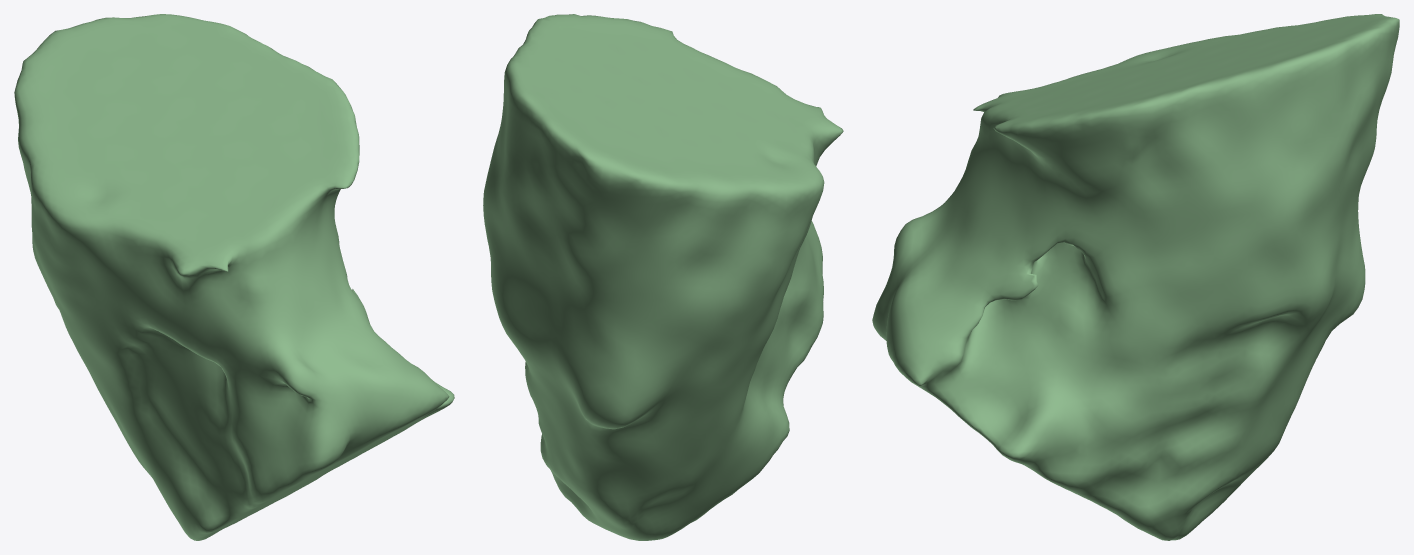
Rendered from carotid-artery.glb.
3 renders of one model, left to right at view 1: azimuth 30°, elevation 25°; view 2: azimuth 150°, elevation 25°; view 3: azimuth 270°, elevation 25°, orthographic. The views are drawn at different scales.
Parts seen in each view (by area): view 1: 12_Carotis Interna.ply; view 2: 12_Carotis Interna.ply; view 3: 12_Carotis Interna.ply.
Boxes of the visible parts, x1,y1,x2,y2 form: 12_Carotis Interna.ply: (14,14,454,540); 12_Carotis Interna.ply: (483,14,843,540); 12_Carotis Interna.ply: (872,14,1399,540).
Bounding box in the file's own units: 8.97 × 11.76 × 11.31.
